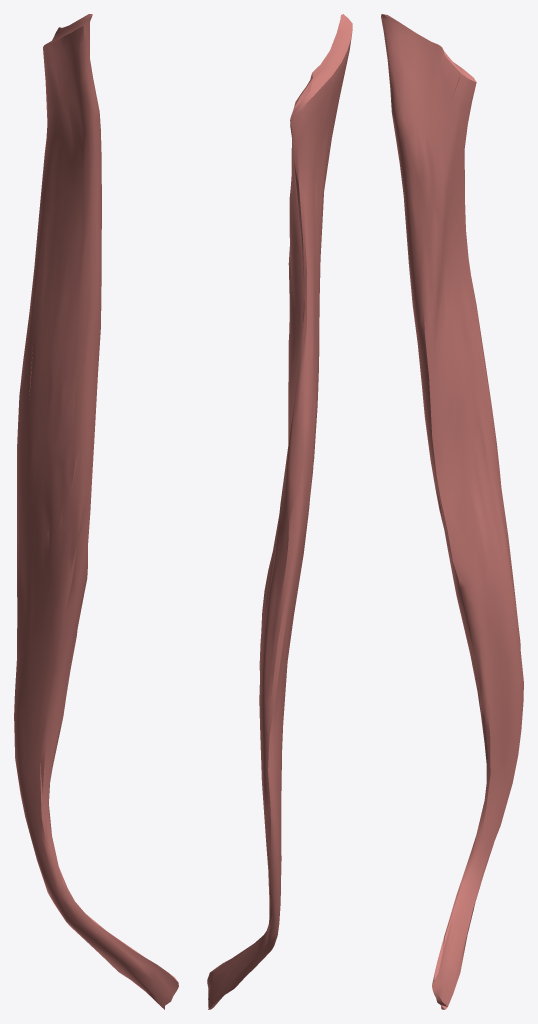
The model's file is fma43884_mm1678.glb.
The picture shows the model from 3 angles, left to right: view 1: azimuth 30°, elevation 25°; view 2: azimuth 150°, elevation 25°; view 3: azimuth 270°, elevation 25°; orthographic projection. The views are drawn at different scales.
Parts seen in each view (by area): view 1: FMA43884_MM1678; view 2: FMA43884_MM1678; view 3: FMA43884_MM1678.
Part boxes in pixels (x1,y1,x2,y2): FMA43884_MM1678: [14, 14, 178, 1009]; FMA43884_MM1678: [207, 14, 352, 1009]; FMA43884_MM1678: [381, 14, 523, 1009].
Size of the model in its own units: 0.0641 by 0.4876 by 0.0666.
